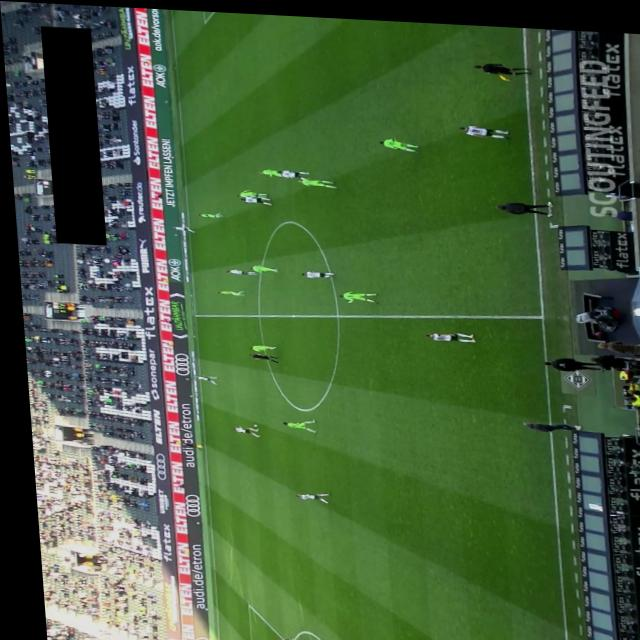goalkeeper: (266, 634, 296, 640)
player: (457, 119, 509, 133), (376, 133, 419, 149), (333, 286, 375, 300), (419, 326, 472, 337), (276, 414, 310, 430), (287, 487, 323, 500), (293, 173, 334, 184), (226, 422, 255, 434), (237, 192, 269, 202), (233, 186, 266, 195), (275, 166, 307, 175), (296, 266, 332, 274), (221, 265, 255, 273), (246, 261, 276, 269), (255, 165, 281, 174), (243, 341, 272, 349), (190, 372, 213, 382), (213, 286, 242, 293), (194, 208, 220, 215), (169, 223, 193, 230)
referee: (473, 56, 534, 75), (243, 350, 275, 360), (172, 439, 199, 449)
